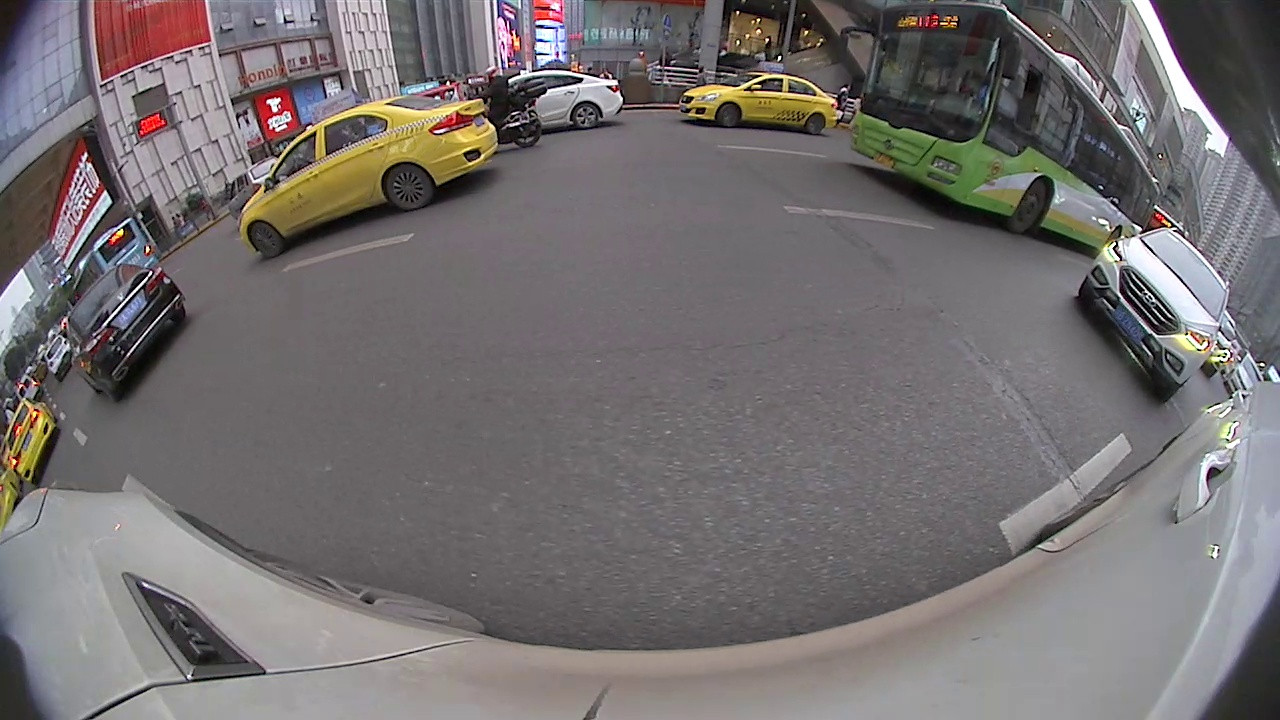bus: (851, 1, 1162, 260), (59, 209, 167, 319)
car: (238, 90, 495, 262), (1076, 226, 1232, 404), (65, 264, 186, 404), (490, 62, 622, 148), (678, 70, 837, 138), (4, 396, 56, 488), (1220, 352, 1264, 403), (42, 333, 76, 382)
front: (1013, 176, 1048, 238), (244, 222, 289, 259), (719, 102, 740, 126)
person: (839, 82, 847, 125)
rear: (381, 166, 439, 208), (508, 115, 543, 148), (572, 106, 605, 128), (809, 114, 827, 133)
rider: (470, 68, 545, 149)
